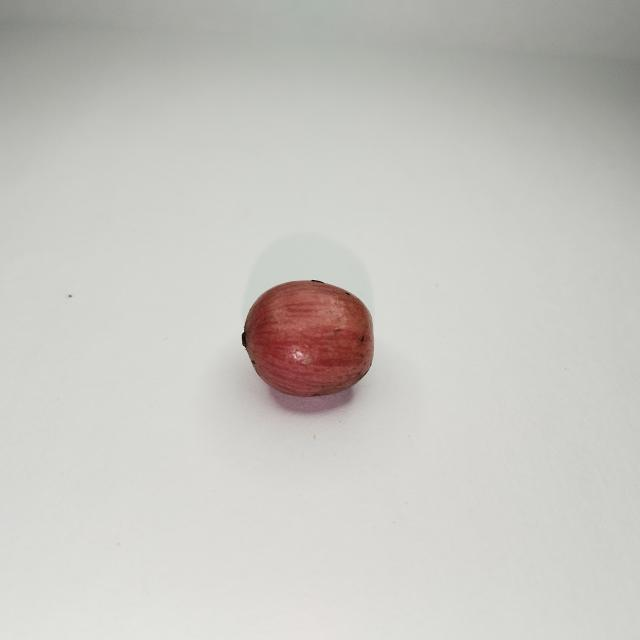Sano: (242, 280, 372, 400)
